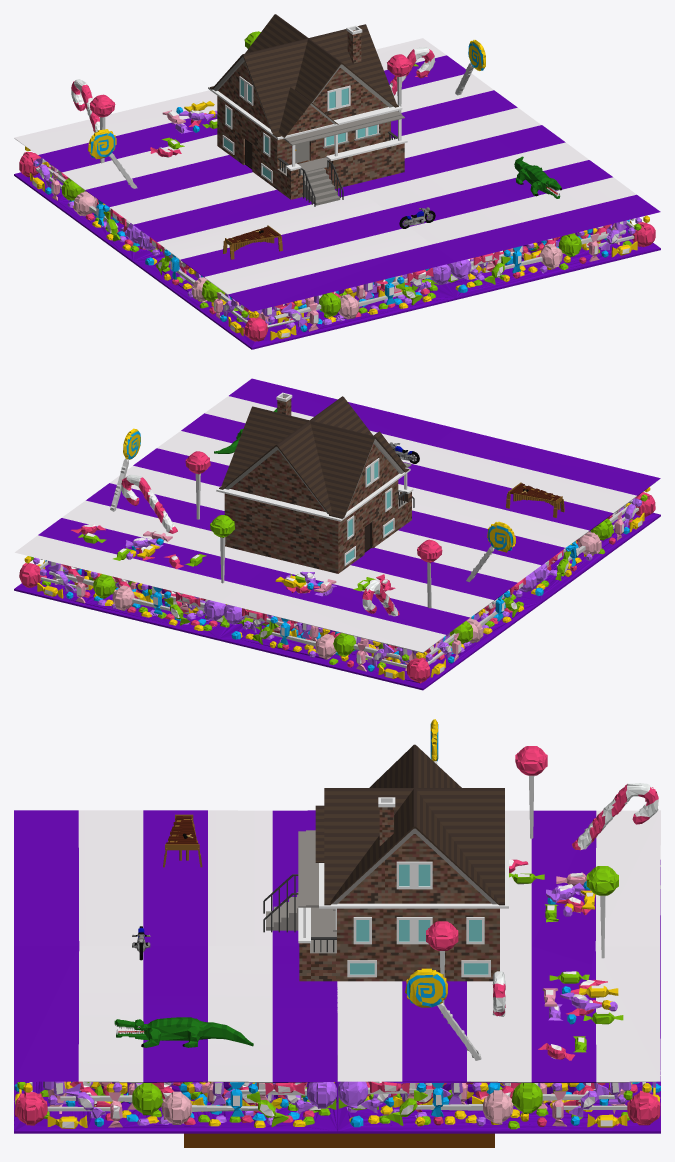
3 views of the same model, one above another, from view 1: azimuth 30°, elevation 25°; view 2: azimuth 150°, elevation 25°; view 3: azimuth 270°, elevation 25° (orthographic). The views are drawn at different scales.
Visible parts, largest first — view 1: TERRAIN_CANDY, Cube.117, ANIMAL_COCODRILO, OBJRANDOM_MARIMBA; view 2: TERRAIN_CANDY, Cube.117, OBJRANDOM_MARIMBA; view 3: TERRAIN_CANDY, Cube.117, UNDERGROUND_ART_PIECE_VAN_GOGH, ANIMAL_COCODRILO, OBJRANDOM_MARIMBA.
Part boxes in pixels (bbox=[...]): TERRAIN_CANDY: bbox=[14, 31, 660, 349]; Cube.117: bbox=[208, 14, 407, 206]; ANIMAL_COCODRILO: bbox=[514, 156, 561, 198]; OBJRANDOM_MARIMBA: bbox=[223, 225, 282, 259]; TERRAIN_CANDY: bbox=[14, 378, 660, 690]; Cube.117: bbox=[216, 392, 414, 573]; OBJRANDOM_MARIMBA: bbox=[506, 482, 564, 517]; TERRAIN_CANDY: bbox=[14, 719, 660, 1133]; Cube.117: bbox=[263, 744, 508, 981]; UNDERGROUND_ART_PIECE_VAN_GOGH: bbox=[184, 1133, 494, 1147]; ANIMAL_COCODRILO: bbox=[114, 1017, 253, 1047]; OBJRANDOM_MARIMBA: bbox=[163, 814, 202, 867].
Bounding box in the file's own units: 4059 × 1710 × 4000.
28 materials, 4 textured.
